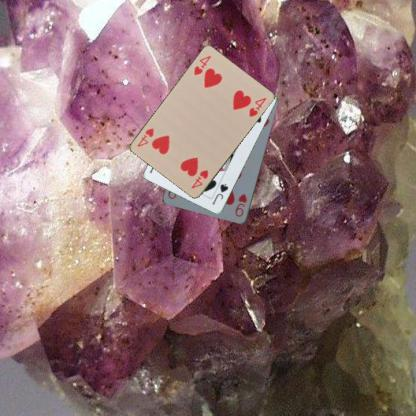4h: (191, 53, 212, 77), (188, 168, 210, 190)
9h: (233, 192, 248, 219)
Js: (209, 182, 230, 206)
